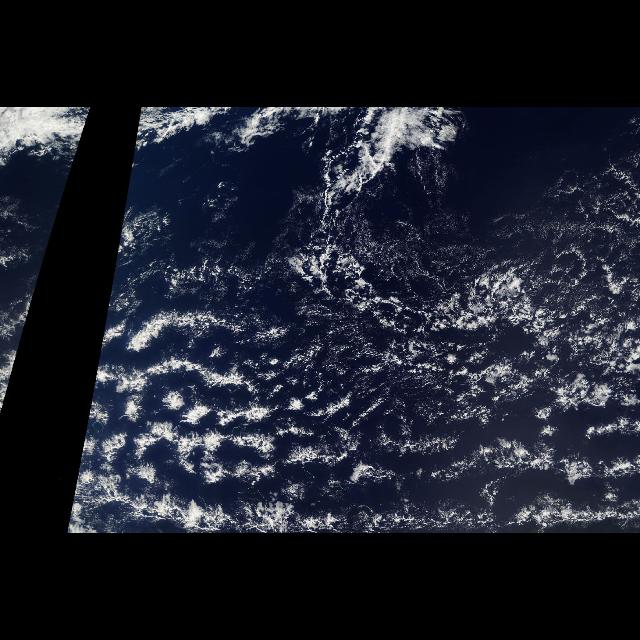Flower: (65, 306, 318, 534)
Gravel: (369, 158, 639, 486)
Sugar: (304, 252, 640, 414)
